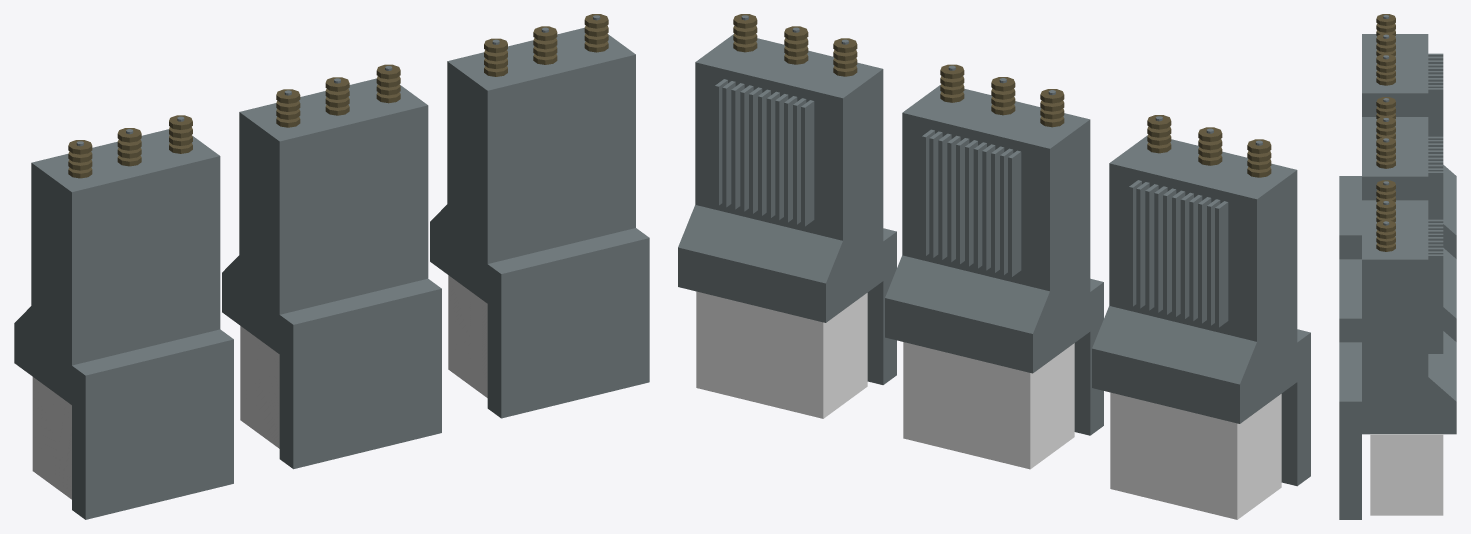
File: site_switchgear.fbx
3 renders of one model, left to right at view 1: azimuth 30°, elevation 25°; view 2: azimuth 150°, elevation 25°; view 3: azimuth 270°, elevation 25°, orthographic. The views are drawn at different scales.
Visible parts, largest first — view 1: a1062/0/site_switchgear; view 2: a1062/0/site_switchgear; view 3: a1062/0/site_switchgear.
Boxes of the visible parts, bbox=[...] form: a1062/0/site_switchgear: bbox=[14, 14, 649, 519]; a1062/0/site_switchgear: bbox=[678, 14, 1310, 519]; a1062/0/site_switchgear: bbox=[1339, 14, 1456, 519].
Bounding box in the file's own units: 7.6 × 4.52 × 1.67.
